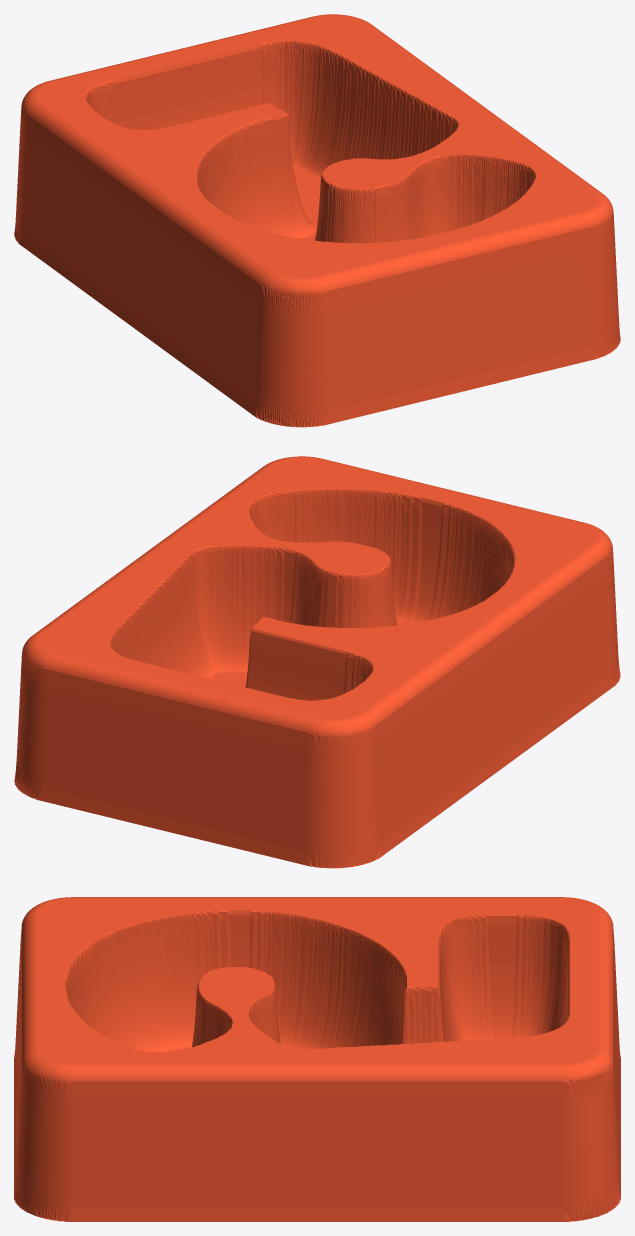
File: mold.glb
3 views of the same model, one above another, from view 1: azimuth 30°, elevation 25°; view 2: azimuth 150°, elevation 25°; view 3: azimuth 270°, elevation 25° (orthographic). The views are drawn at different scales.
Parts seen in each view (by area): view 1: geometry_0; view 2: geometry_0; view 3: geometry_0.
Part boxes in pixels (box(x1,y1,x2,y2)): geometry_0: box(14, 14, 620, 427); geometry_0: box(14, 456, 620, 868); geometry_0: box(14, 897, 620, 1221).
Bounding box in the file's own units: 0.0668 × 0.0248 × 0.0924.
